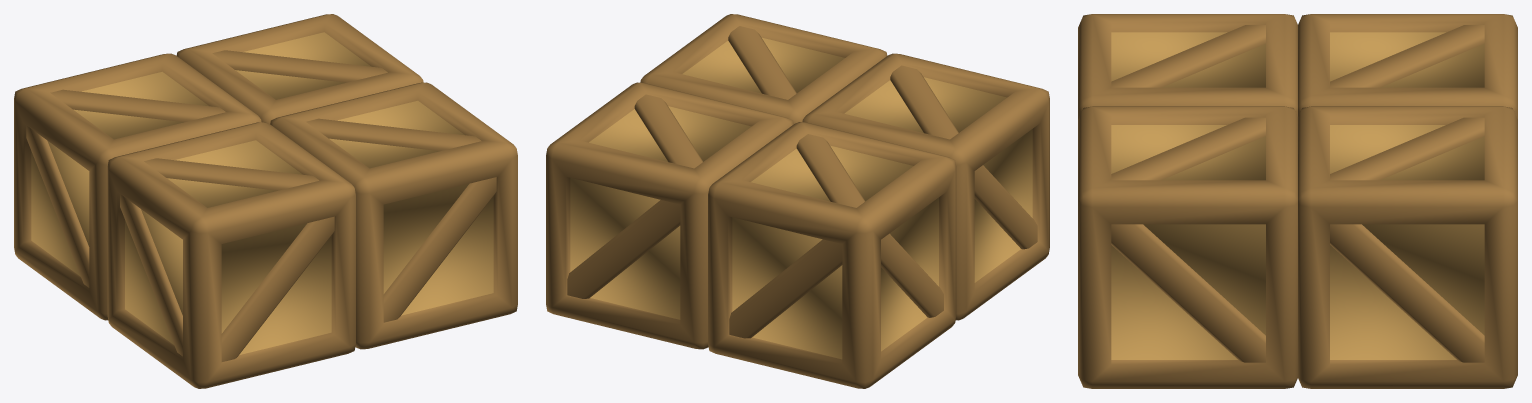
The model's file is Cube_Cratex4.gltf.
The picture shows the model from 3 angles, left to right: view 1: azimuth 30°, elevation 25°; view 2: azimuth 150°, elevation 25°; view 3: azimuth 270°, elevation 25°; orthographic projection. The views are drawn at different scales.
Parts seen in each view (by area): view 1: Cube_Cratex4; view 2: Cube_Cratex4; view 3: Cube_Cratex4.
Part boxes in pixels (bbox=[...]): Cube_Cratex4: bbox=[14, 14, 517, 388]; Cube_Cratex4: bbox=[546, 14, 1049, 388]; Cube_Cratex4: bbox=[1078, 14, 1517, 388].
Size of the model in its own units: 4.02 by 2.02 by 4.02.
